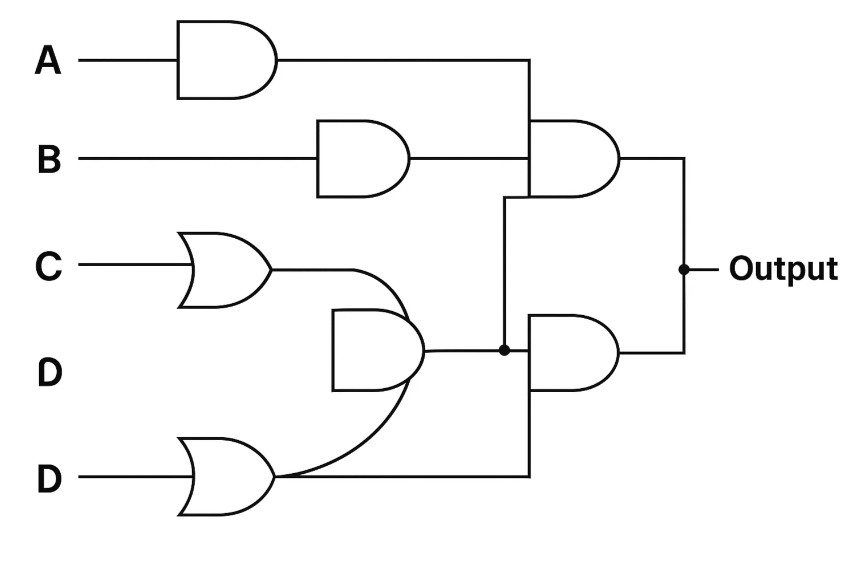and gate: (325, 298, 435, 401), (172, 12, 287, 105), (524, 113, 633, 204), (520, 309, 632, 397), (309, 112, 418, 201)
or gate: (169, 226, 286, 316), (171, 433, 287, 523)
